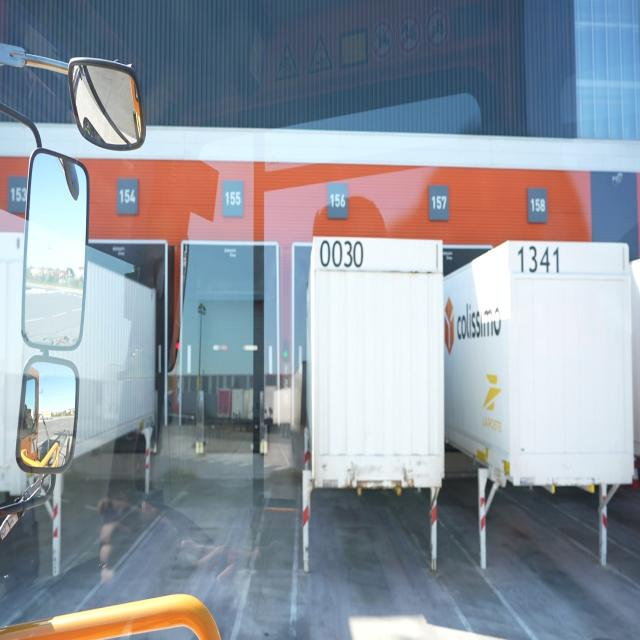Code: (319, 234, 366, 276), (517, 245, 564, 277)
